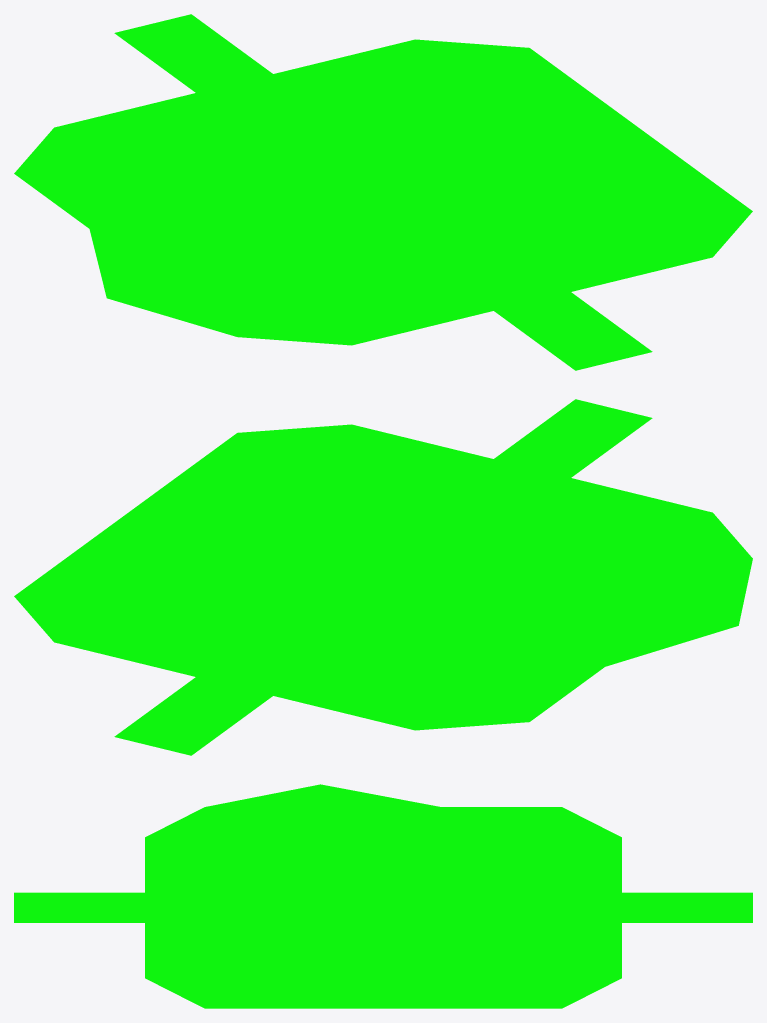
File: s05a_ib1-floor.glb
3 views of the same model, one above another, from view 1: azimuth 30°, elevation 25°; view 2: azimuth 150°, elevation 25°; view 3: azimuth 270°, elevation 25° (orthographic). The views are drawn at different scales.
Visible parts, largest first — view 1: collision_floor-colonly; view 2: collision_floor-colonly; view 3: collision_floor-colonly.
Part boxes in pixels (x1,y1,x2,y2): collision_floor-colonly: (14, 14, 752, 370); collision_floor-colonly: (14, 399, 752, 755); collision_floor-colonly: (14, 784, 752, 1008).
Size of the model in its own units: 44.51 by 0 by 62.
